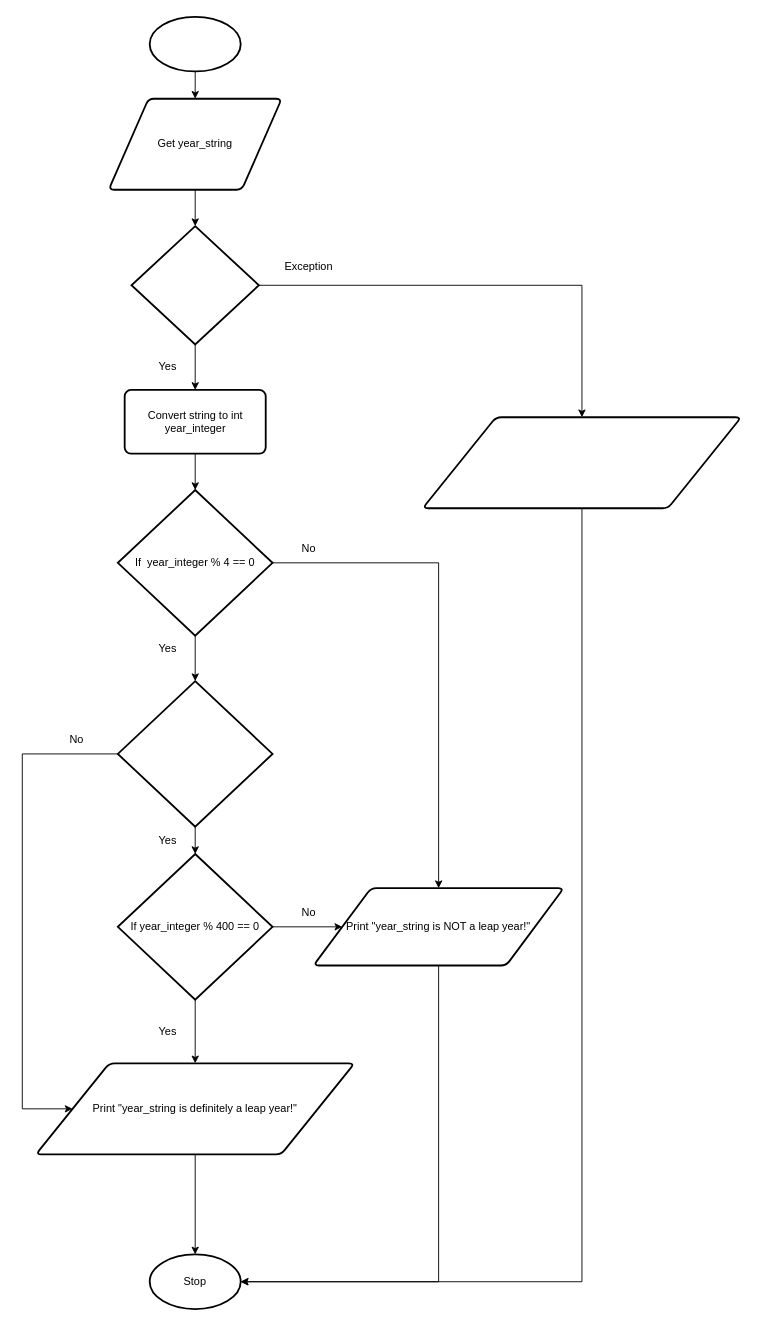
Image size: 758x1325. Some labels were removed from this diagram. Here are the shapes that lost their labels. From the top down, the box of each, then its label:
(148, 15, 241, 72): Start
(130, 225, 259, 345): try
(421, 416, 742, 509): Print "Invalid answer!"
(116, 680, 273, 827): If year_integer % 100 == 0
